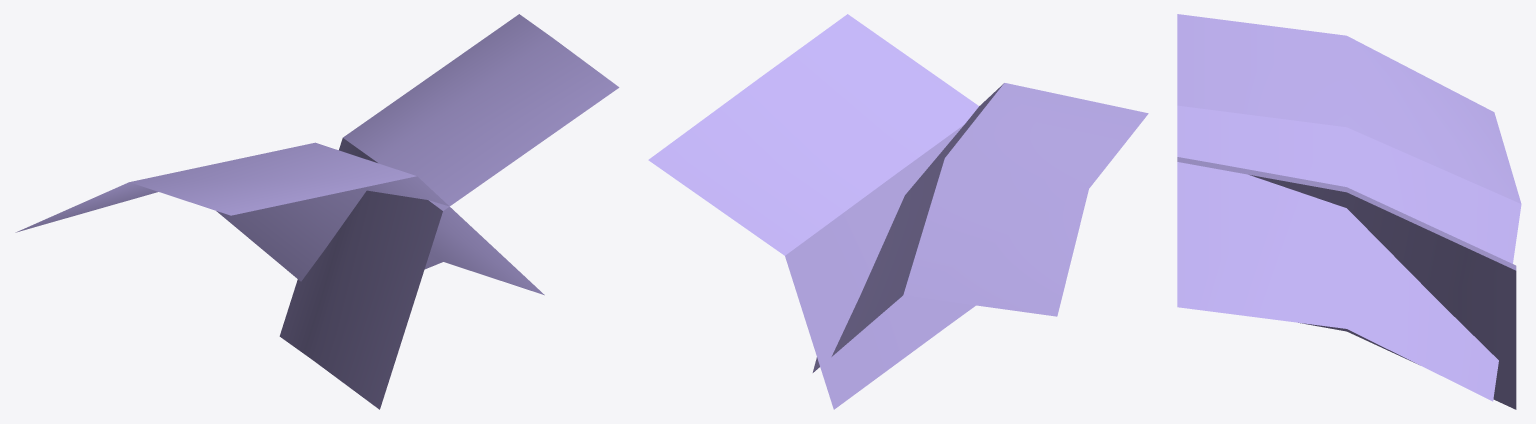
3 renders of one model, left to right at view 1: azimuth 30°, elevation 25°; view 2: azimuth 150°, elevation 25°; view 3: azimuth 270°, elevation 25°, orthographic. The views are drawn at different scales.
Parts seen in each view (by area): view 1: Object18; view 2: Object18; view 3: Object18.
Part boxes in pixels (left/top/right/bottom): Object18: left=15, top=14, right=619, bottom=409; Object18: left=648, top=14, right=1148, bottom=409; Object18: left=1177, top=14, right=1521, bottom=409.
Size of the model in its own units: 11615 by 7321 by 7078.
